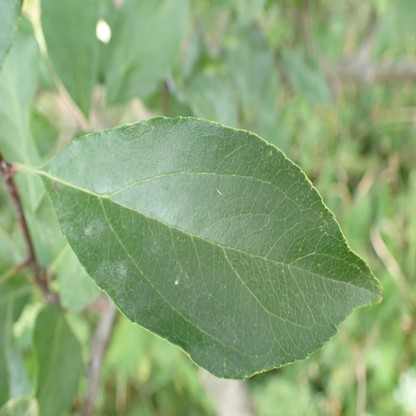powdery_mildew: (91, 260, 136, 320), (53, 189, 74, 219), (85, 218, 104, 241), (61, 221, 80, 241), (146, 237, 162, 258), (175, 260, 187, 286)
